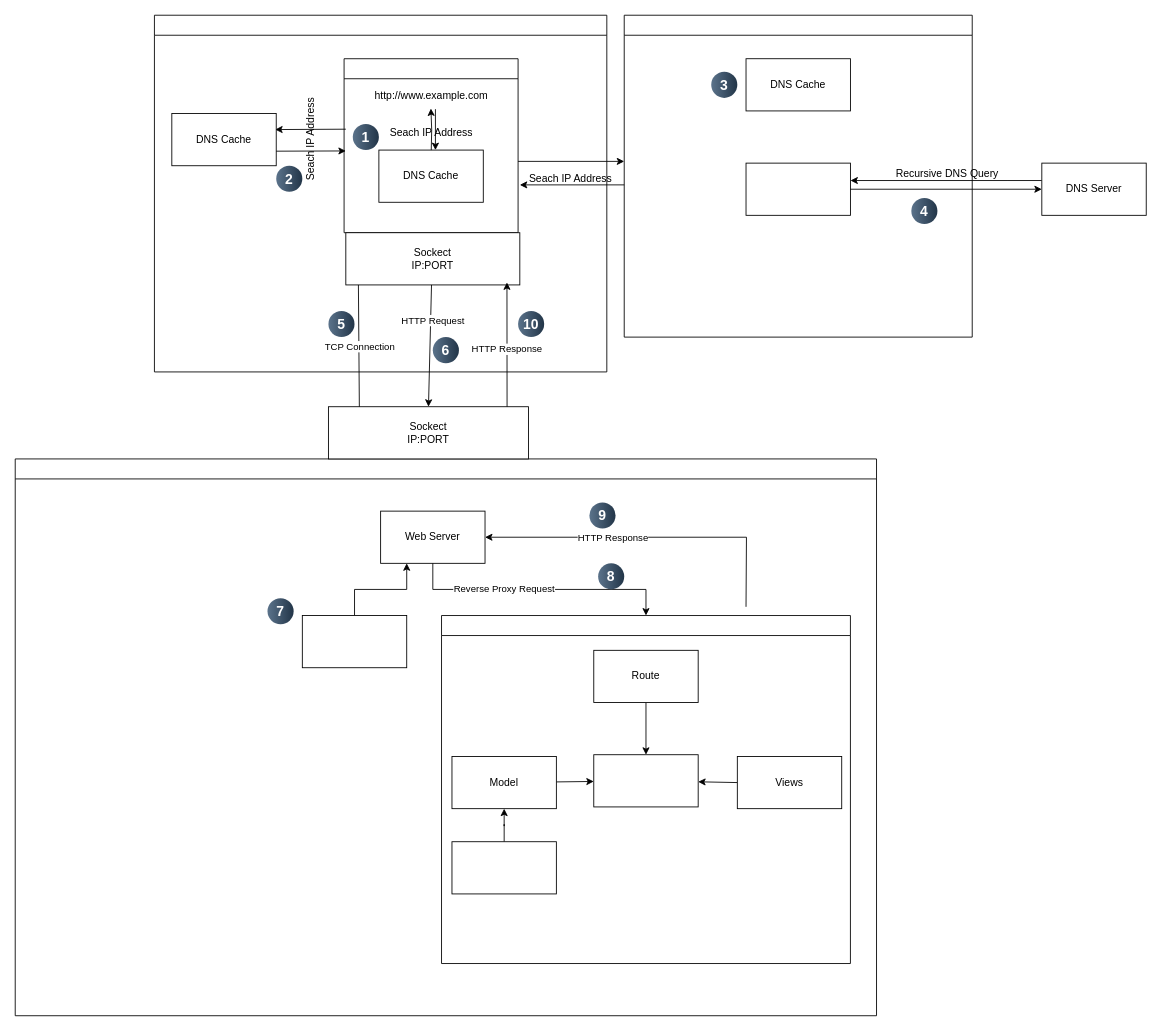
This 1161x1031 diagram has some shape labels left out. The box of each missing label's shape, as (x1, y1, x2, y2) in pixels:
Application Server: (441, 615, 850, 964)
Browser: (343, 58, 518, 233)
Controller: (593, 754, 698, 807)
Database: (451, 841, 556, 894)
DNS Resolver: (745, 162, 850, 215)
Host: (14, 458, 877, 1016)
ISP: (623, 14, 972, 337)
Operating System: (154, 14, 607, 372)
Public Assets: (301, 615, 407, 668)
